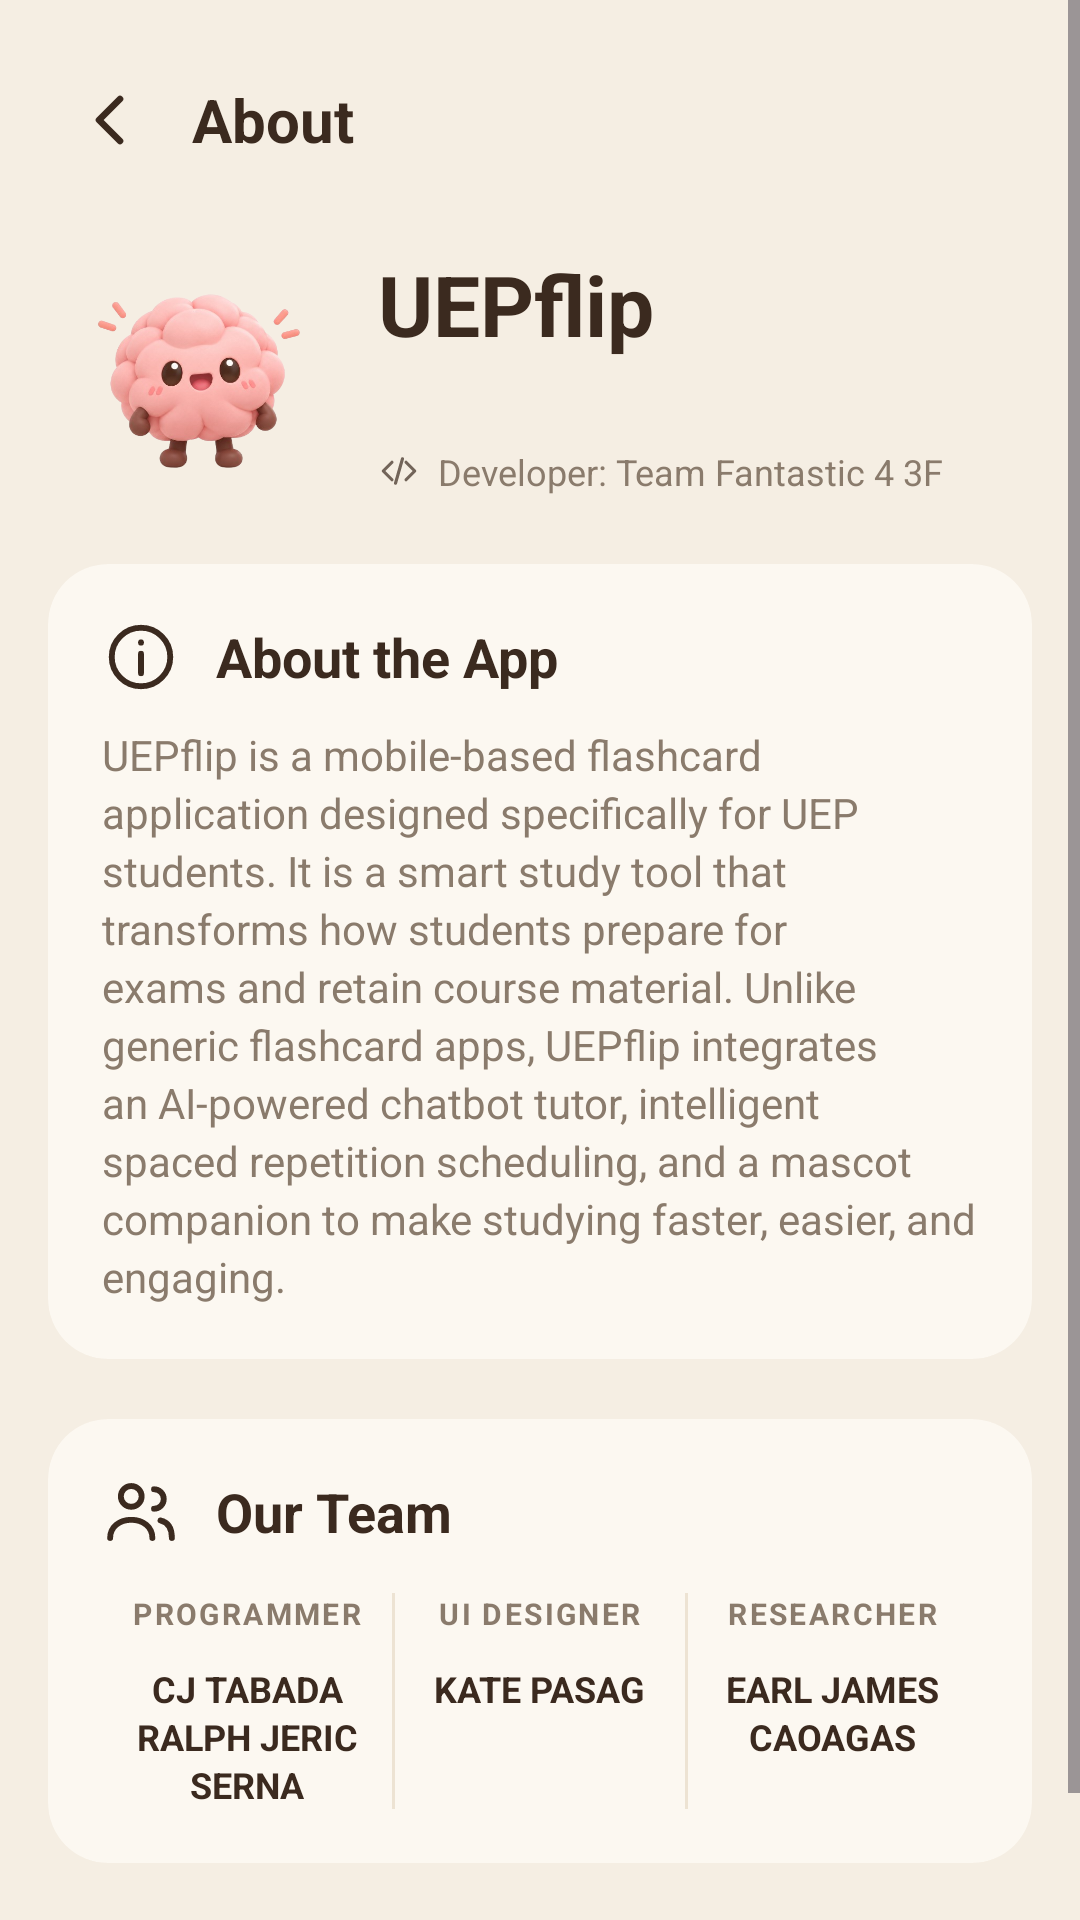

Screen size 1080w x 1920h. Icon name, then its box in pixels as [x1, y1, x2, y2]:
Back: [95, 95, 124, 145]
me code: [382, 457, 416, 485]
me info: [108, 624, 174, 690]
me team: [107, 1483, 175, 1541]
